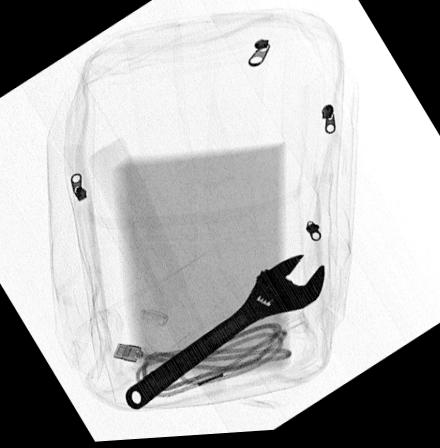Wrench: (122, 257, 328, 412)
